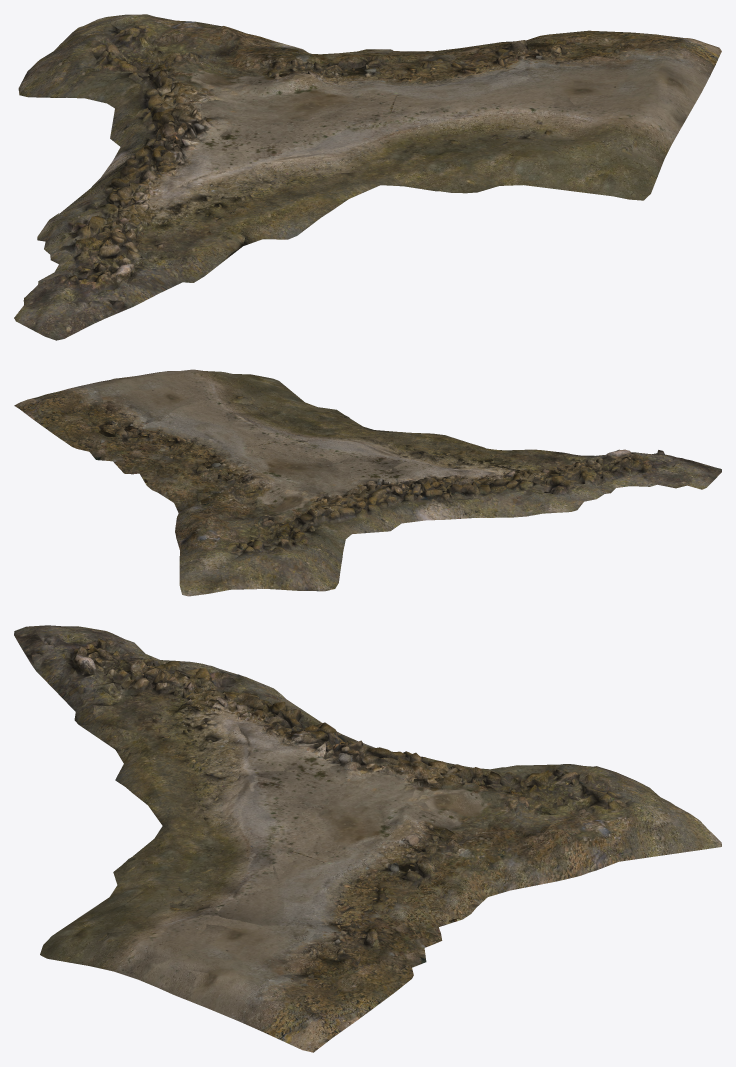
File: coastal-rocks-v6.glb
The picture shows the model from 3 angles, top to bottom: view 1: azimuth 30°, elevation 25°; view 2: azimuth 150°, elevation 25°; view 3: azimuth 270°, elevation 25°; orthographic projection. The views are drawn at different scales.
Parts seen in each view (by area): view 1: coastal-rock-near, coastal-rock-far; view 2: coastal-rock-near, coastal-rock-far; view 3: coastal-rock-near, coastal-rock-far.
Boxes of the visible parts, <box> form: coastal-rock-near: <box>14,14,721,340</box>; coastal-rock-far: <box>19,14,717,340</box>; coastal-rock-near: <box>15,369,721,596</box>; coastal-rock-far: <box>14,371,721,594</box>; coastal-rock-near: <box>14,625,721,1052</box>; coastal-rock-far: <box>14,626,720,1052</box>.
Size of the model in its own units: 59.51 by 3.25 by 42.51.
Materials: 1 (1 with a texture image).
